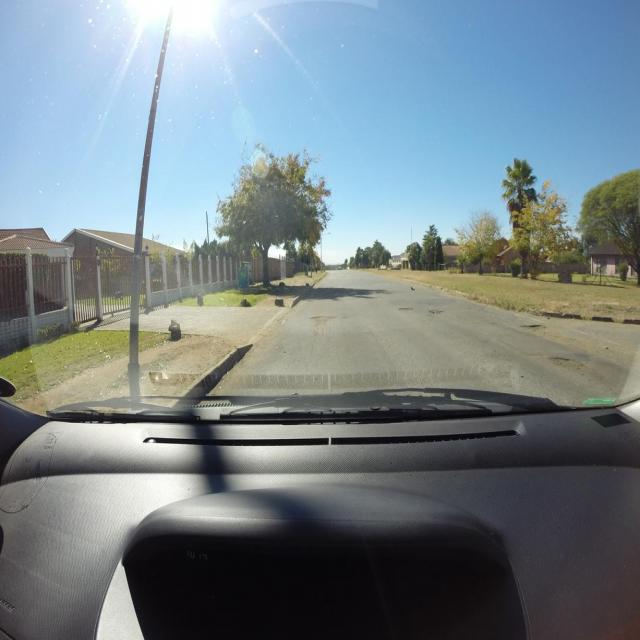Pothole: (549, 356, 584, 371), (521, 324, 547, 333), (310, 316, 336, 320), (429, 309, 444, 315), (399, 308, 413, 310)
